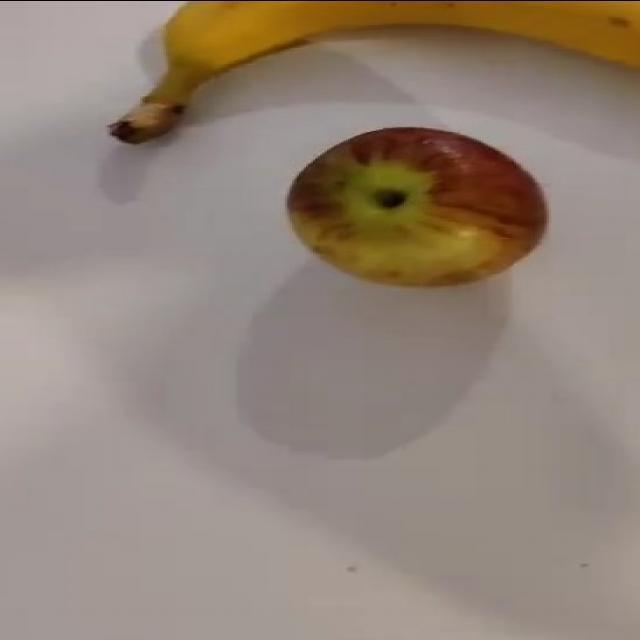Apple: (285, 125, 548, 287)
Banana: (106, 0, 639, 144)
